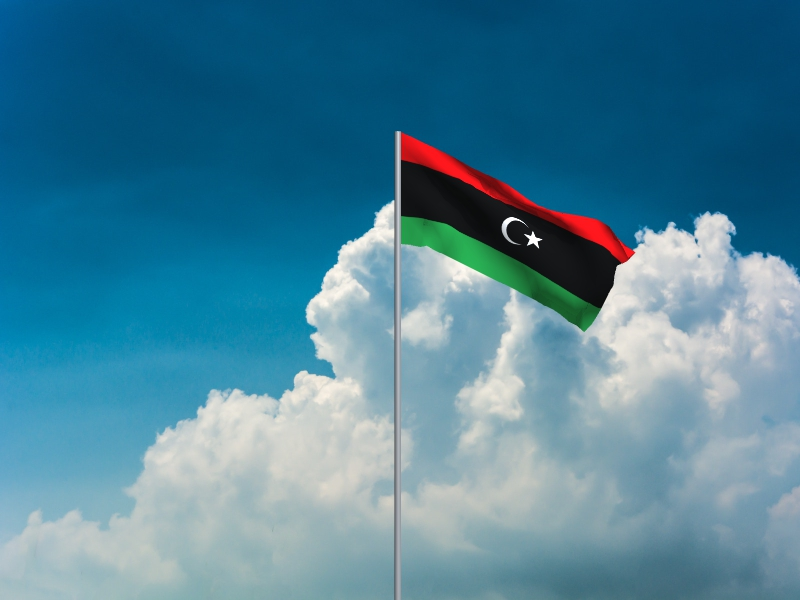ly: (402, 133, 637, 334)
